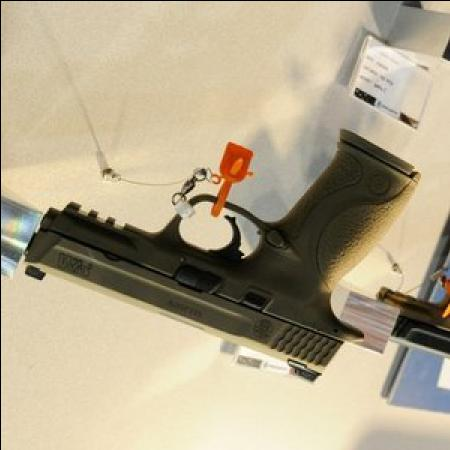Pistol: (27, 140, 421, 386)
